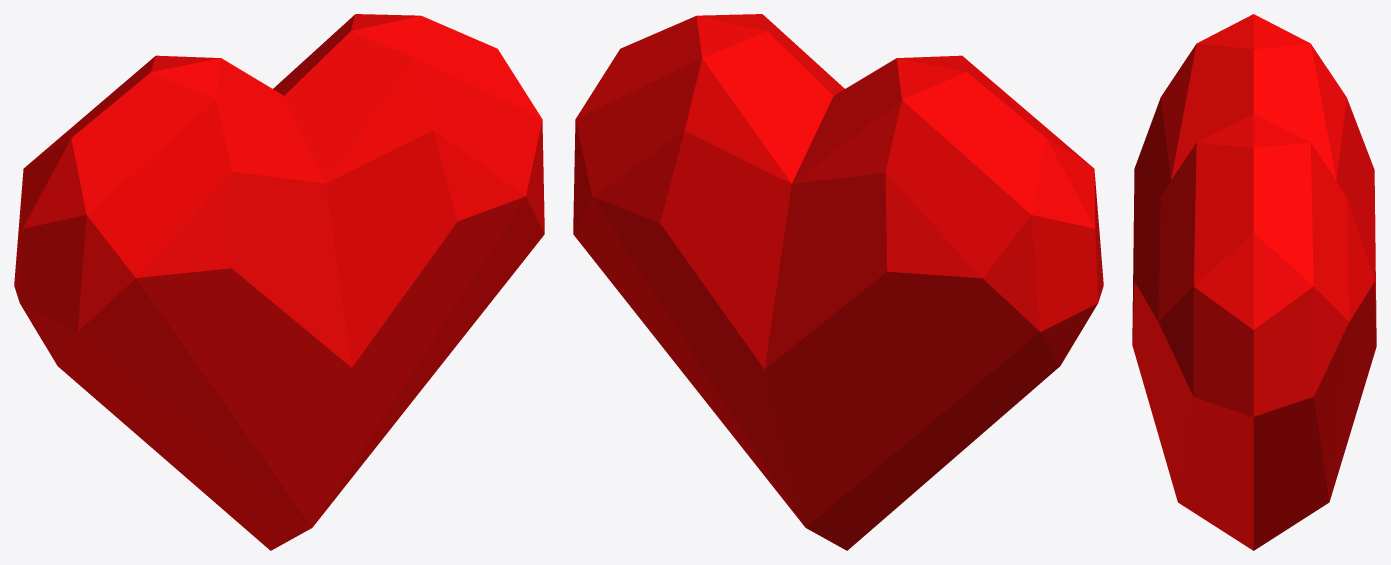
Rendered from Env_Heart_01a.fbx.
The picture shows the model from 3 angles, left to right: view 1: azimuth 30°, elevation 25°; view 2: azimuth 150°, elevation 25°; view 3: azimuth 270°, elevation 25°; orthographic projection. The views are drawn at different scales.
Parts seen in each view (by area): view 1: Cube.009; view 2: Cube.009; view 3: Cube.009.
Part boxes in pixels (box(x1,y1,x2,y2)): Cube.009: box(14, 14, 544, 550); Cube.009: box(573, 14, 1103, 550); Cube.009: box(1132, 14, 1376, 550).
Size of the model in its own units: 140 by 130 by 59.8.
